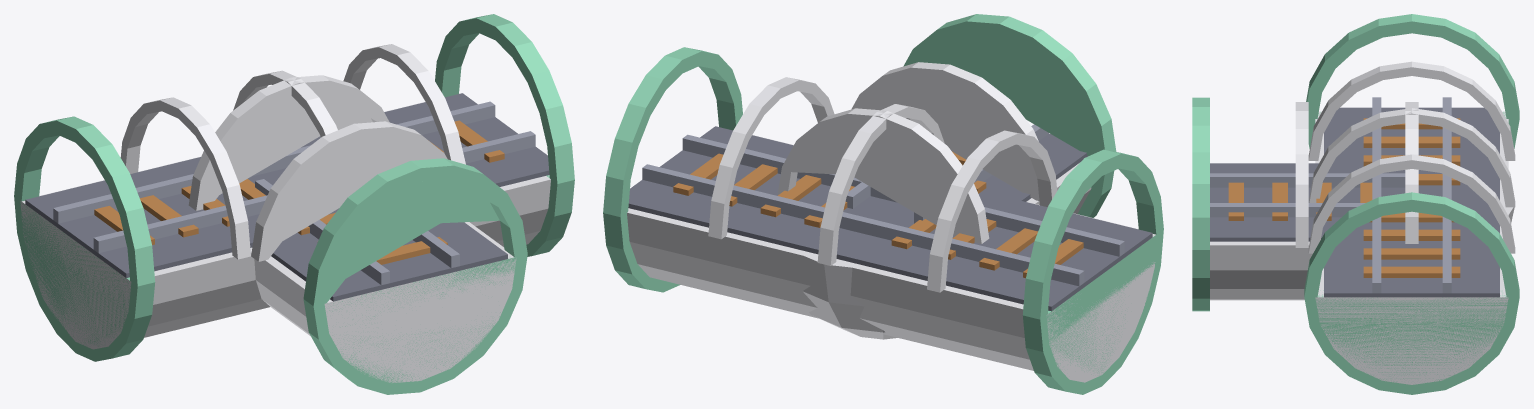
The model's file is tunnel-1x1-intersection.glb.
3 renders of one model, left to right at view 1: azimuth 30°, elevation 25°; view 2: azimuth 150°, elevation 25°; view 3: azimuth 270°, elevation 25°, orthographic. The views are drawn at different scales.
Parts seen in each view (by area): view 1: tunnel-1x1-intersection; view 2: tunnel-1x1-intersection; view 3: tunnel-1x1-intersection.
Part boxes in pixels (left/top/right/bottom): tunnel-1x1-intersection: left=14, top=14, right=574, bottom=394; tunnel-1x1-intersection: left=603, top=14, right=1163, bottom=394; tunnel-1x1-intersection: left=1192, top=14, right=1519, bottom=394.
Bounding box in the file's own units: 1 × 0.49 × 0.745.
Materials: 1 (1 with a texture image).
